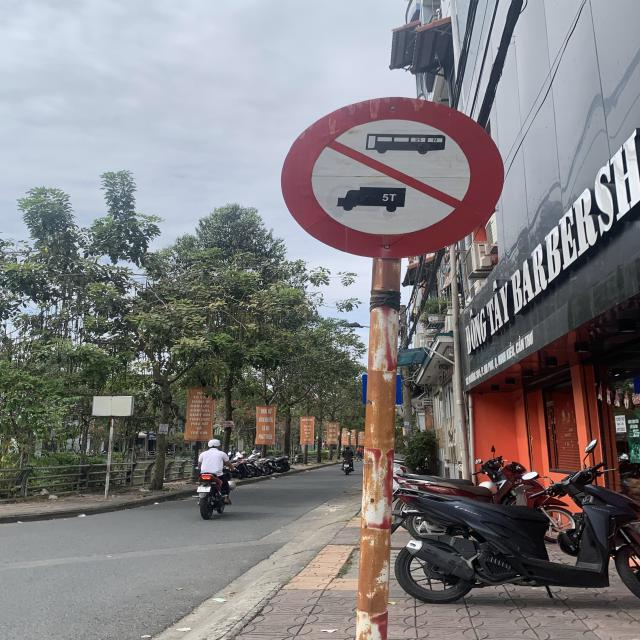Cam_XeTai_XeKhach: (280, 95, 508, 259)
